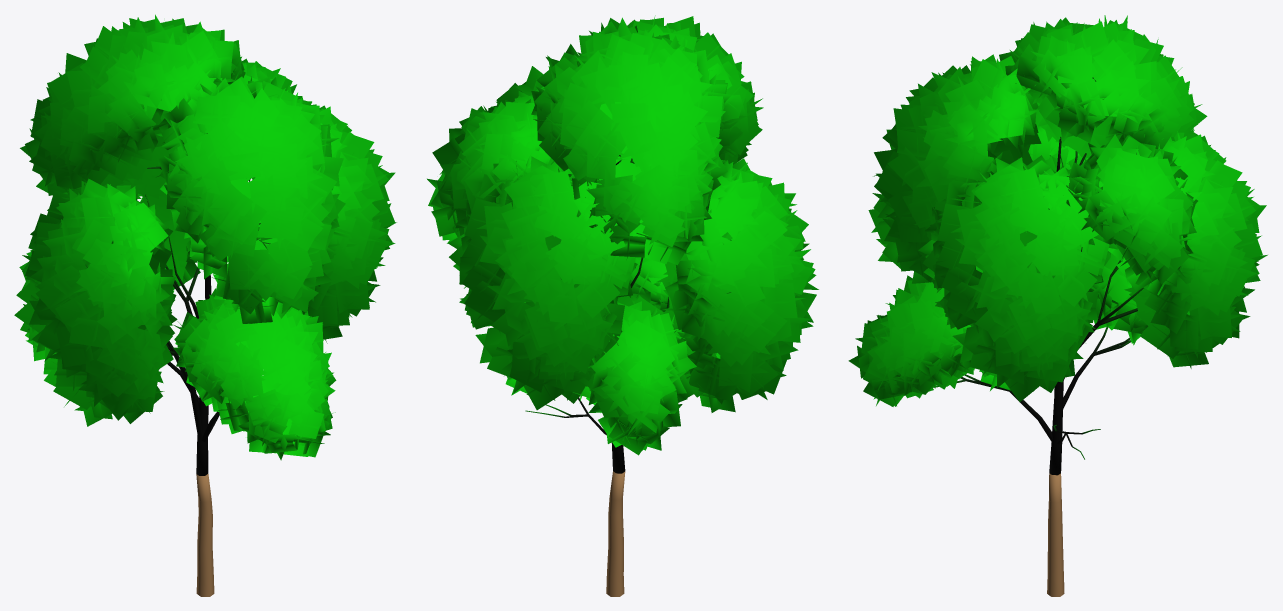
Rendered from Birch_Tree_02.FBX.
3 renders of one model, left to right at view 1: azimuth 30°, elevation 25°; view 2: azimuth 150°, elevation 25°; view 3: azimuth 270°, elevation 25°, orthographic. The views are drawn at different scales.
Parts seen in each view (by area): view 1: Upper Trunk, Bottom Trunk; view 2: Upper Trunk, Bottom Trunk; view 3: Upper Trunk, Bottom Trunk.
Part boxes in pixels (x1,y1,x2,y2): Upper Trunk: (14,14,396,475); Bottom Trunk: (196,474,214,596); Upper Trunk: (427,15,818,473); Bottom Trunk: (606,471,625,596); Upper Trunk: (848,15,1267,475); Bottom Trunk: (1047,473,1064,596).
Bounding box in the file's own units: 504 × 790 × 538.
